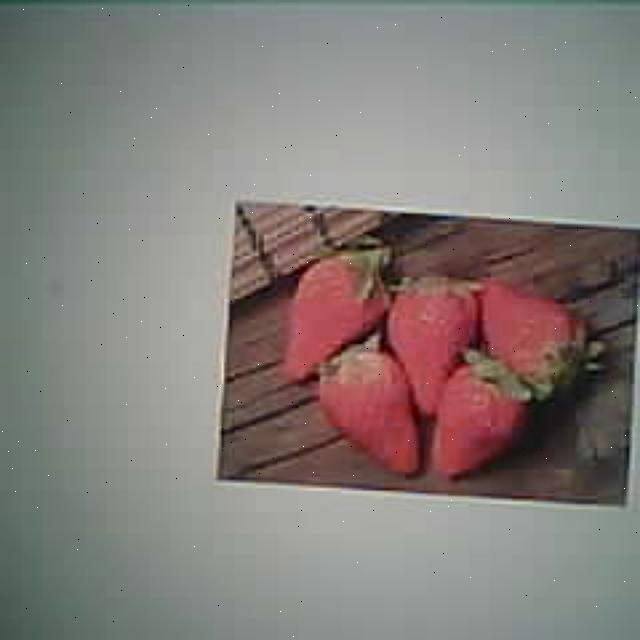ripe: (285, 256, 388, 380), (322, 348, 418, 467), (477, 275, 591, 375), (393, 278, 475, 408), (434, 371, 522, 474)
